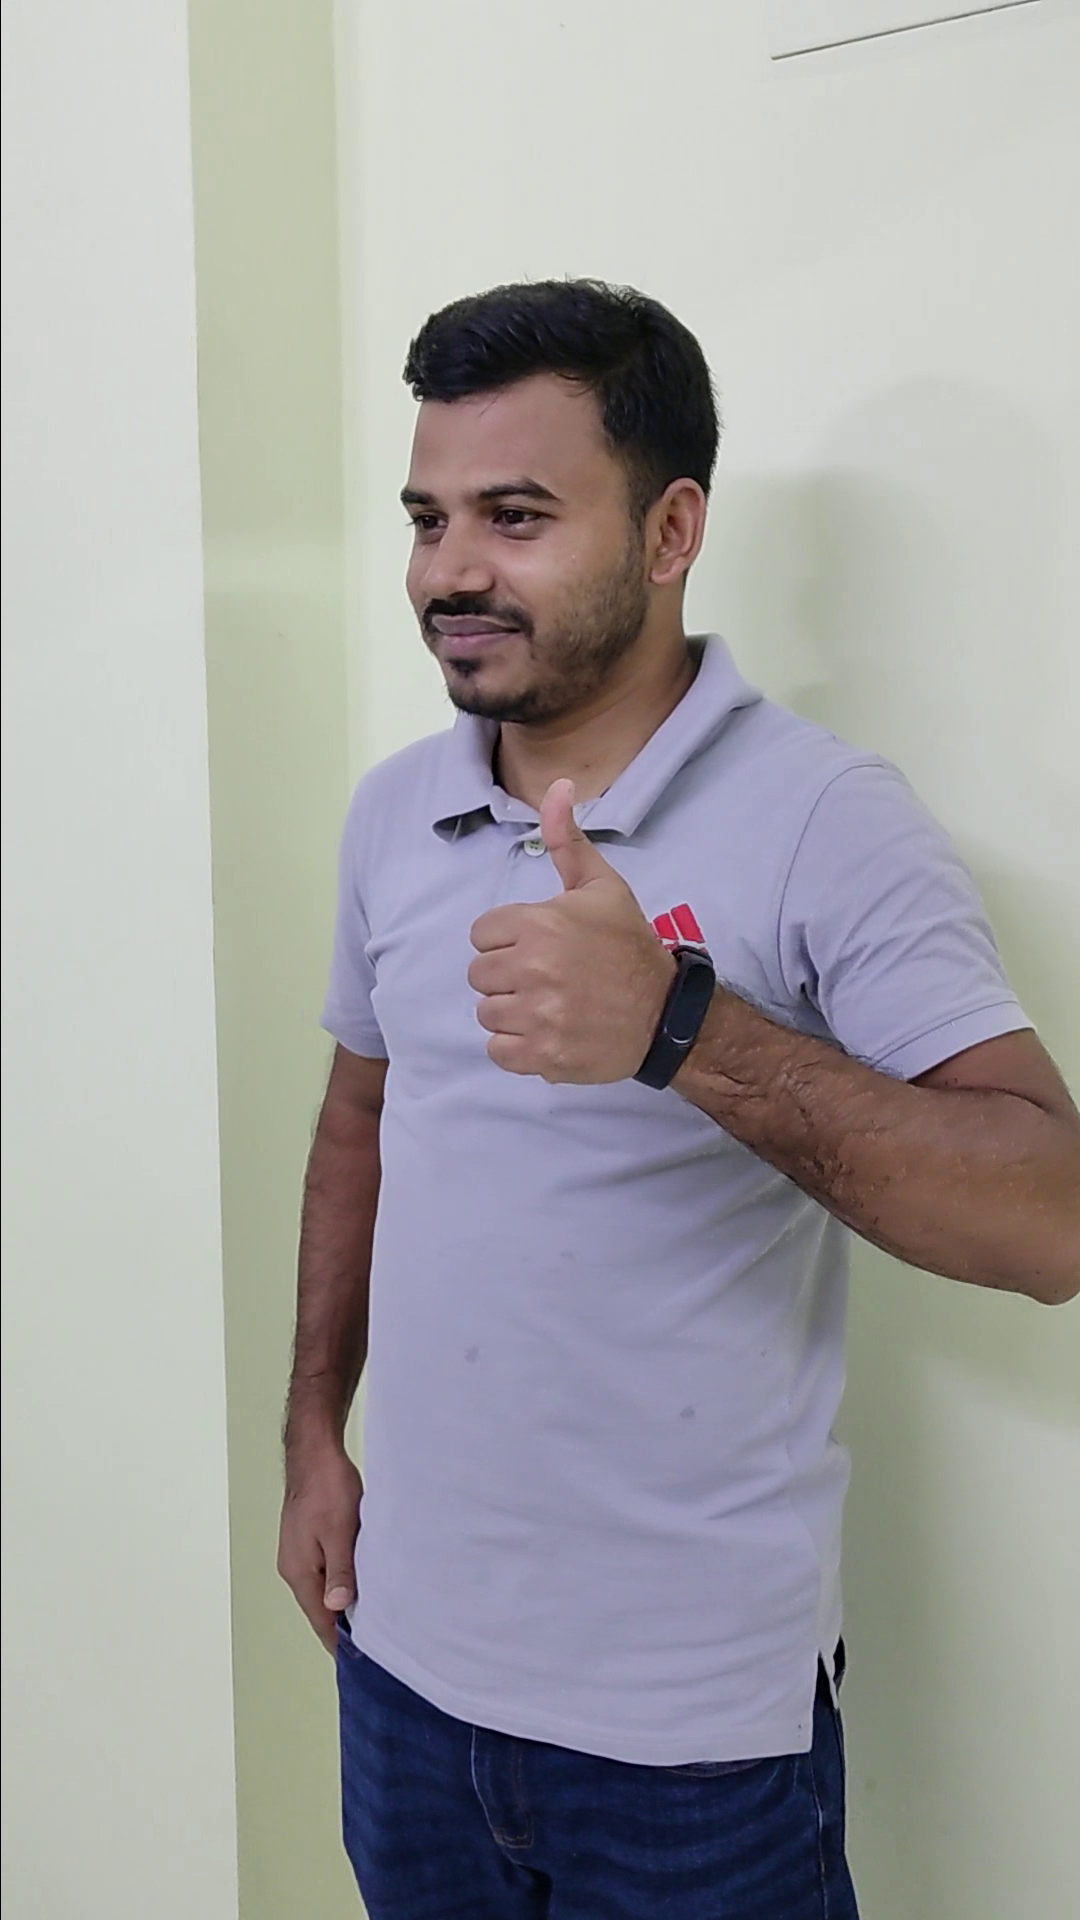Like: (436, 761, 688, 1098)
None: (243, 1379, 389, 1673)
